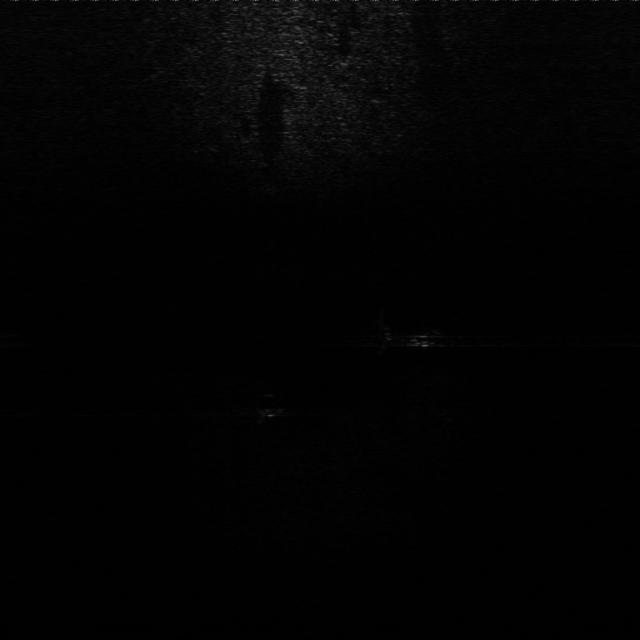ball: (254, 393, 292, 418)
human body: (378, 322, 462, 353)
